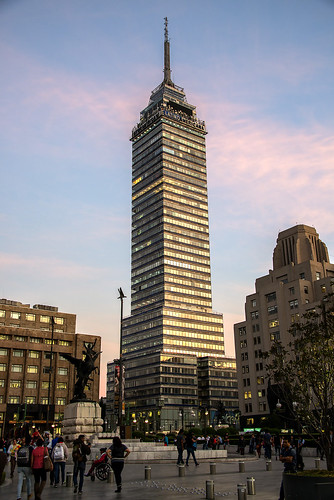low: (117, 76, 232, 446)
